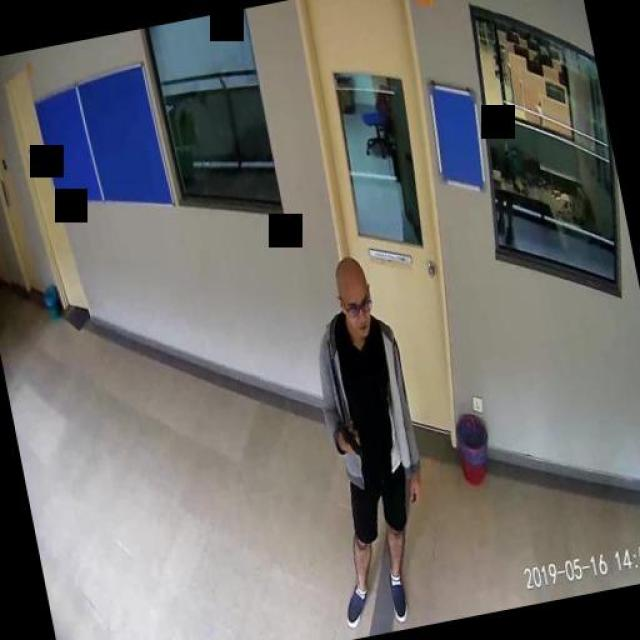gun: (334, 415, 360, 459)
